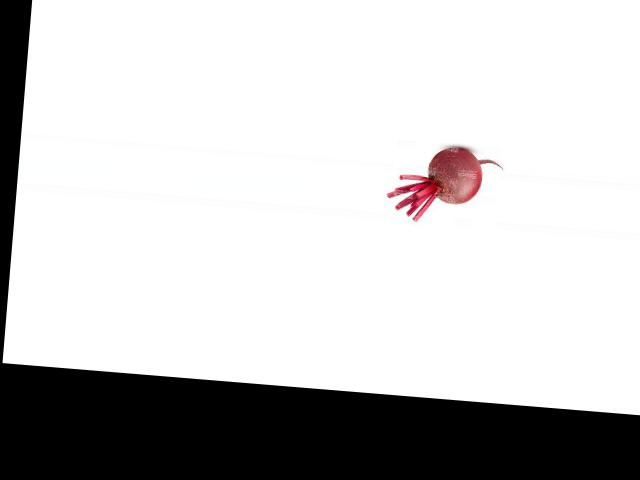beet: (384, 142, 504, 227)
